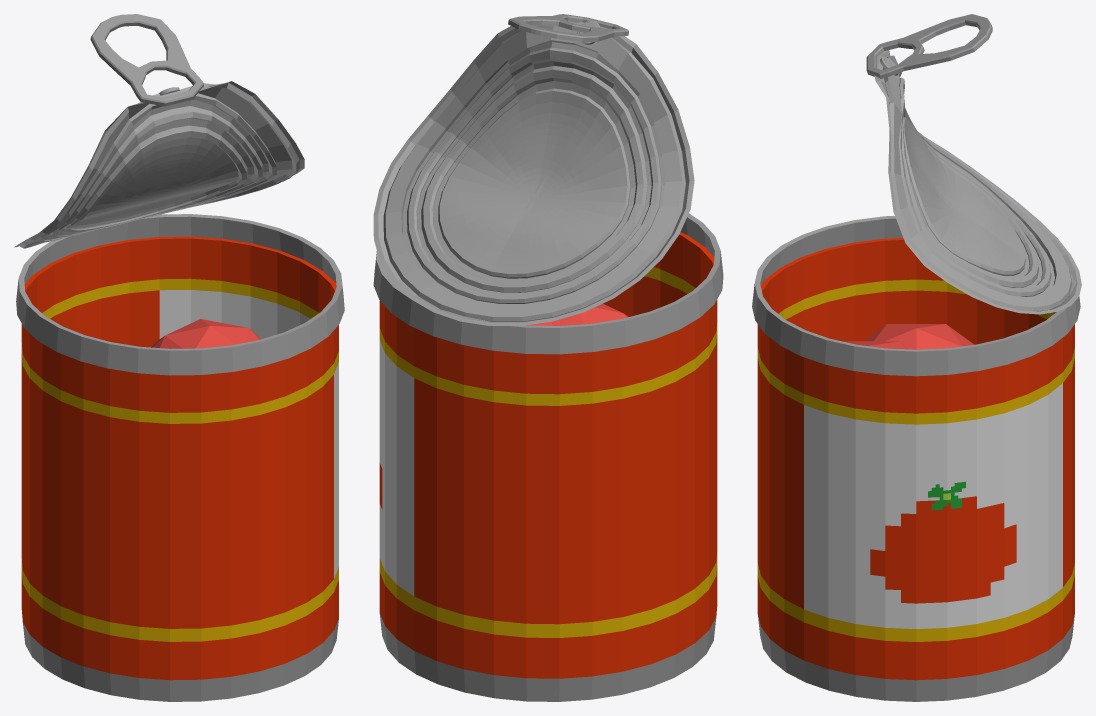
The model's file is opensoup.fbx.
3 renders of one model, left to right at view 1: azimuth 30°, elevation 25°; view 2: azimuth 150°, elevation 25°; view 3: azimuth 270°, elevation 25°, orthographic. The views are drawn at different scales.
Parts seen in each view (by area): view 1: Cylinder, Cylinder.002, Cylinder.001, Icosphere.001; view 2: Cylinder, Cylinder.002, Cylinder.001, Icosphere.002; view 3: Cylinder, Cylinder.002, Cylinder.001, Icosphere.
Part boxes in pixels (<box>): Cylinder: <box>16,214,344,701</box>; Cylinder.002: <box>14,81,304,248</box>; Cylinder.001: <box>90,14,203,106</box>; Icosphere.001: <box>151,319,260,348</box>; Cylinder: <box>373,213,723,701</box>; Cylinder.002: <box>373,22,694,325</box>; Cylinder.001: <box>508,14,628,42</box>; Icosphere.002: <box>551,303,628,325</box>; Cylinder: <box>752,215,1080,701</box>; Cylinder.002: <box>874,50,1081,314</box>; Cylinder.001: <box>866,14,992,78</box>; Icosphere: <box>863,324,974,349</box>.
Size of the model in its own units: 57.83 by 116 by 58.06.
